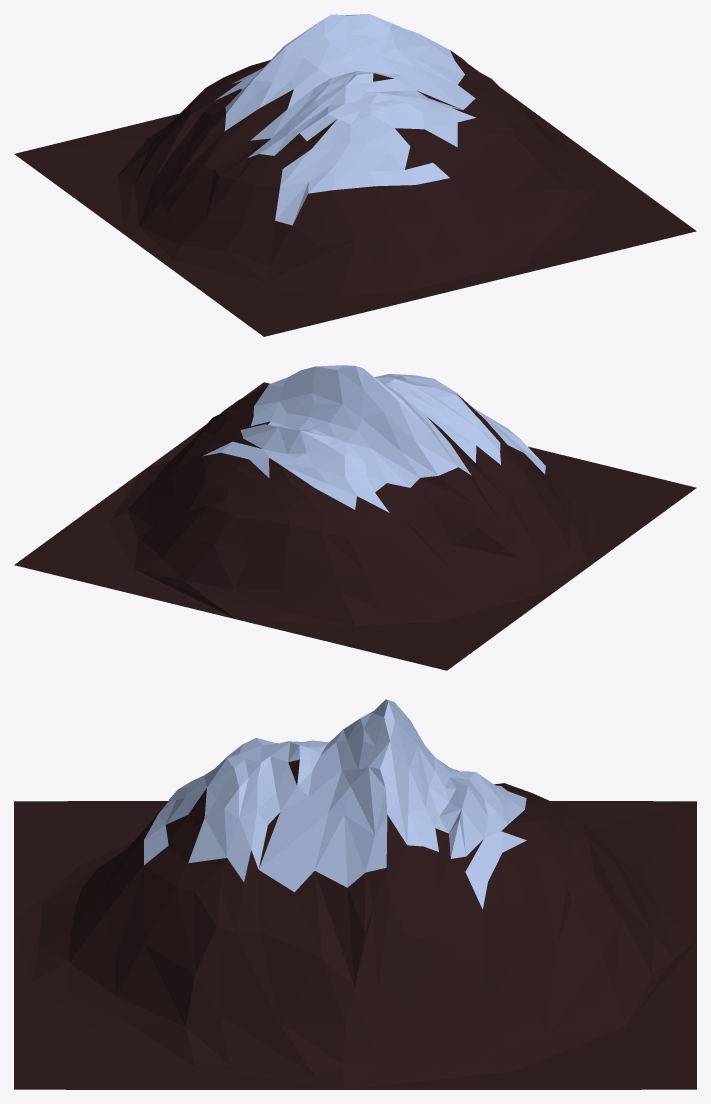
The model's file is montaña.fbx.
3 views of the same model, one above another, from view 1: azimuth 30°, elevation 25°; view 2: azimuth 150°, elevation 25°; view 3: azimuth 270°, elevation 25° (orthographic). The views are drawn at different scales.
Parts seen in each view (by area): view 1: Landscape; view 2: Landscape; view 3: Landscape.
Boxes of the visible parts, x1,y1,x2,y2 form: Landscape: [14, 14, 696, 336]; Landscape: [14, 365, 696, 670]; Landscape: [14, 699, 696, 1089].
Bounding box in the file's own units: 200 × 76.1 × 200.
